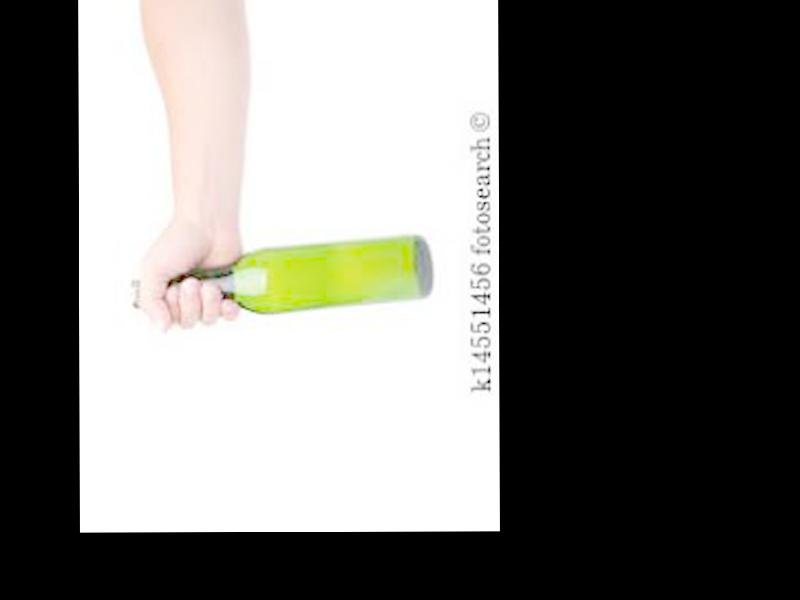Beer: (132, 233, 433, 314)
